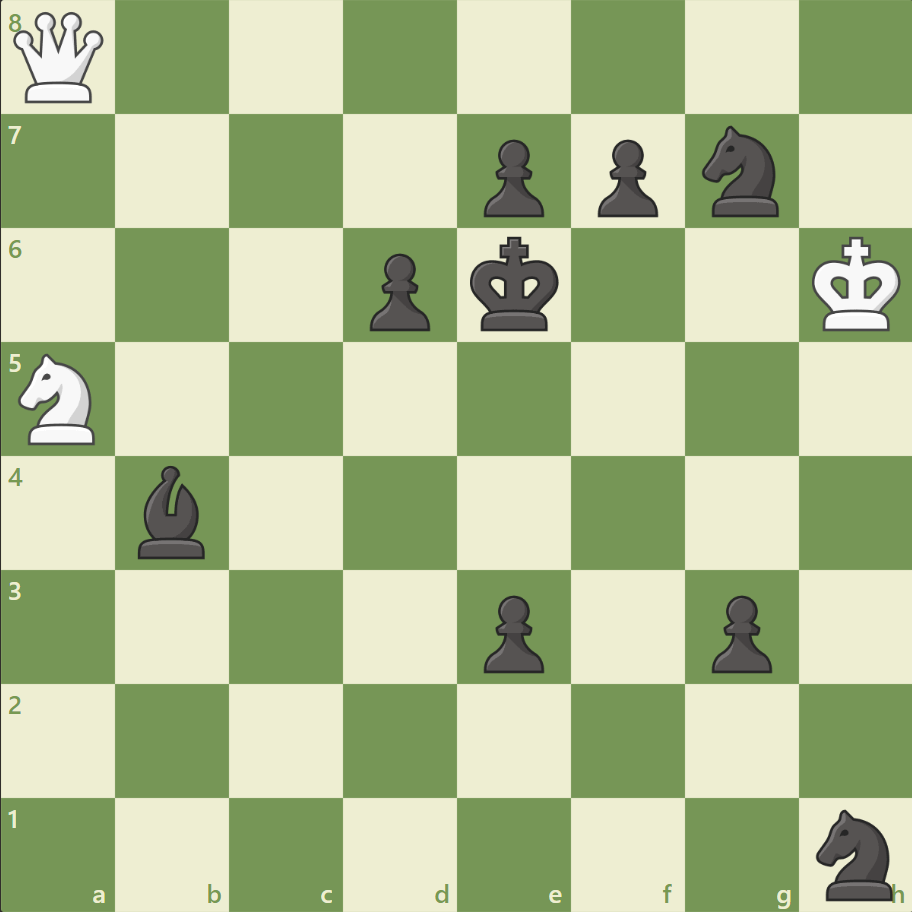K: (806, 231, 906, 339)
N: (11, 348, 108, 450)
Q: (10, 9, 109, 108)
b: (131, 460, 215, 563)
k: (465, 231, 565, 339)
n: (692, 121, 789, 223), (806, 802, 903, 904)
p: (474, 132, 549, 223), (474, 586, 549, 677), (701, 586, 776, 677), (588, 132, 662, 223), (361, 246, 435, 337)
